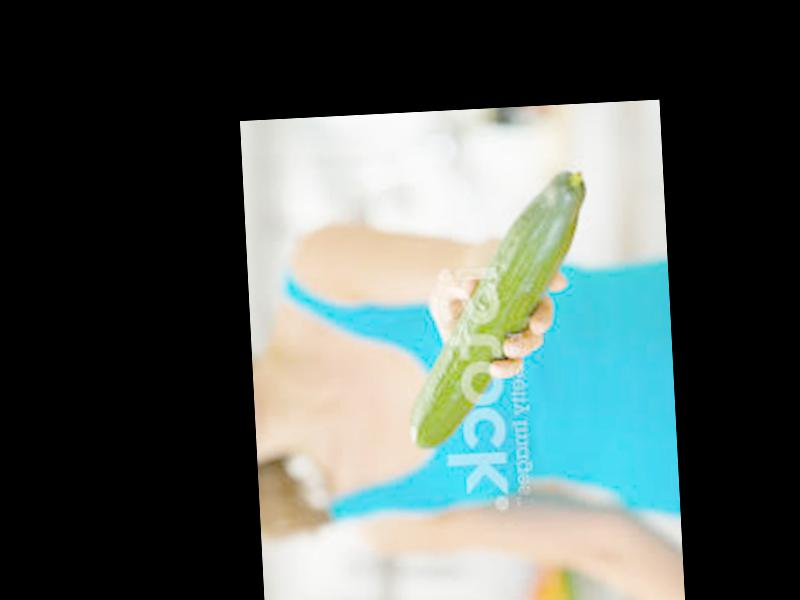Cucumber: (397, 171, 600, 450)
